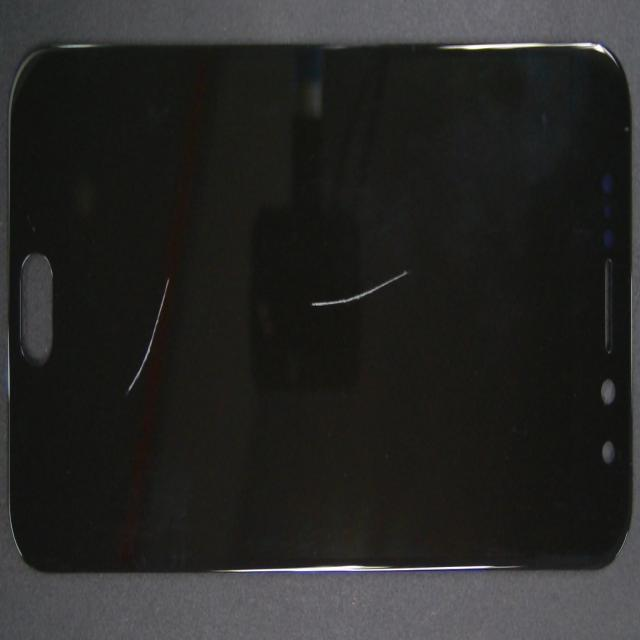Scratches: (109, 272, 180, 406), (303, 252, 421, 326)
